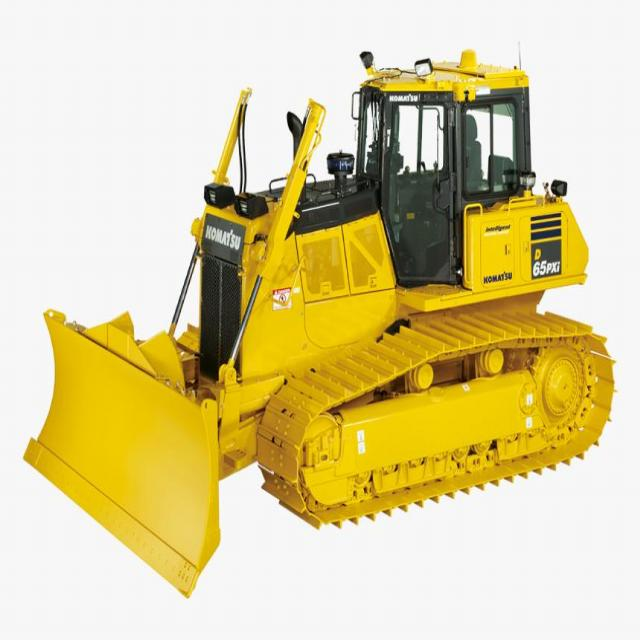Bulldozer: (28, 46, 604, 604)
